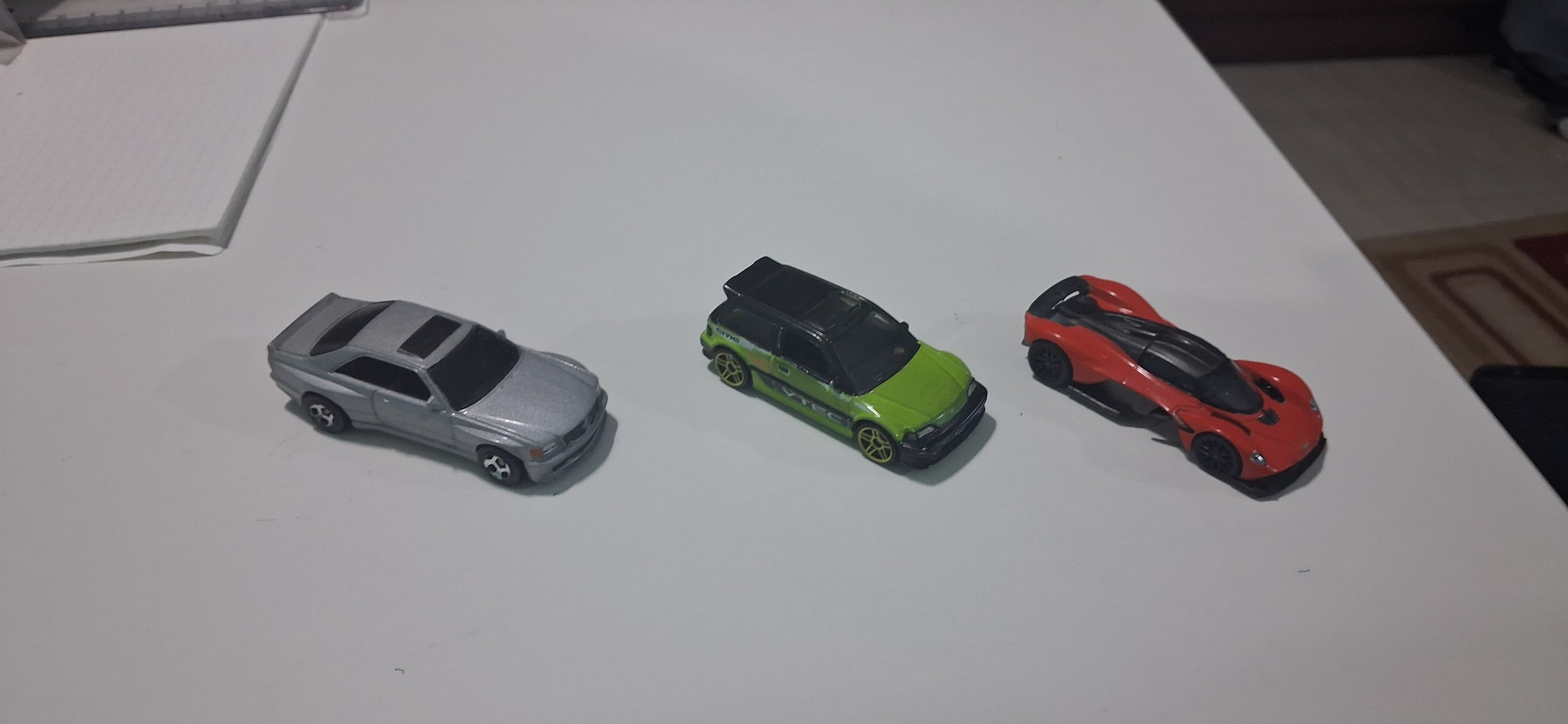Aston_Martin_Valkyrie: (1020, 224, 1340, 540)
Honda_Civic: (688, 214, 1000, 501)
Mercedes_Benz_560_SEC_AMG: (237, 245, 625, 538)
